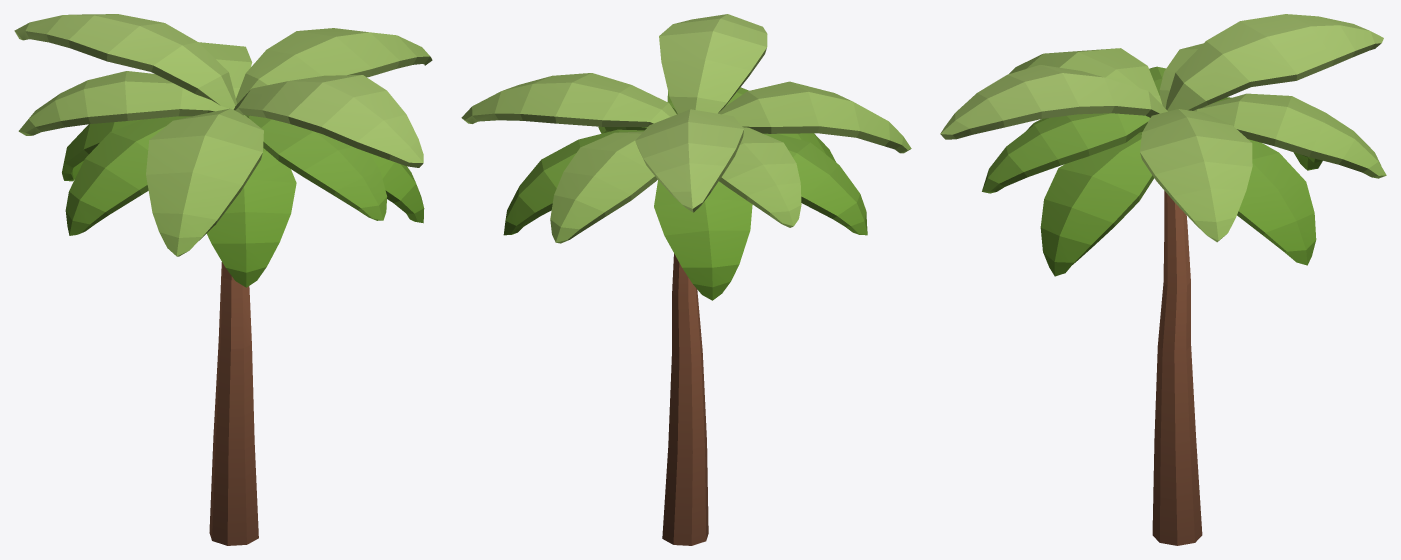
Rendered from palm-tree-large.glb.
3 views of the same model, side by side, from view 1: azimuth 30°, elevation 25°; view 2: azimuth 150°, elevation 25°; view 3: azimuth 270°, elevation 25° (orthographic). The views are drawn at different scales.
Visible parts, largest first — view 1: palm_tree_large; view 2: palm_tree_large; view 3: palm_tree_large.
Part boxes in pixels (x1,y1,x2,y2): palm_tree_large: [14, 14, 432, 545]; palm_tree_large: [461, 14, 911, 545]; palm_tree_large: [940, 14, 1386, 545].
Size of the model in its own units: 6.09 by 7.15 by 6.08.
Materials: 1 (1 with a texture image).
